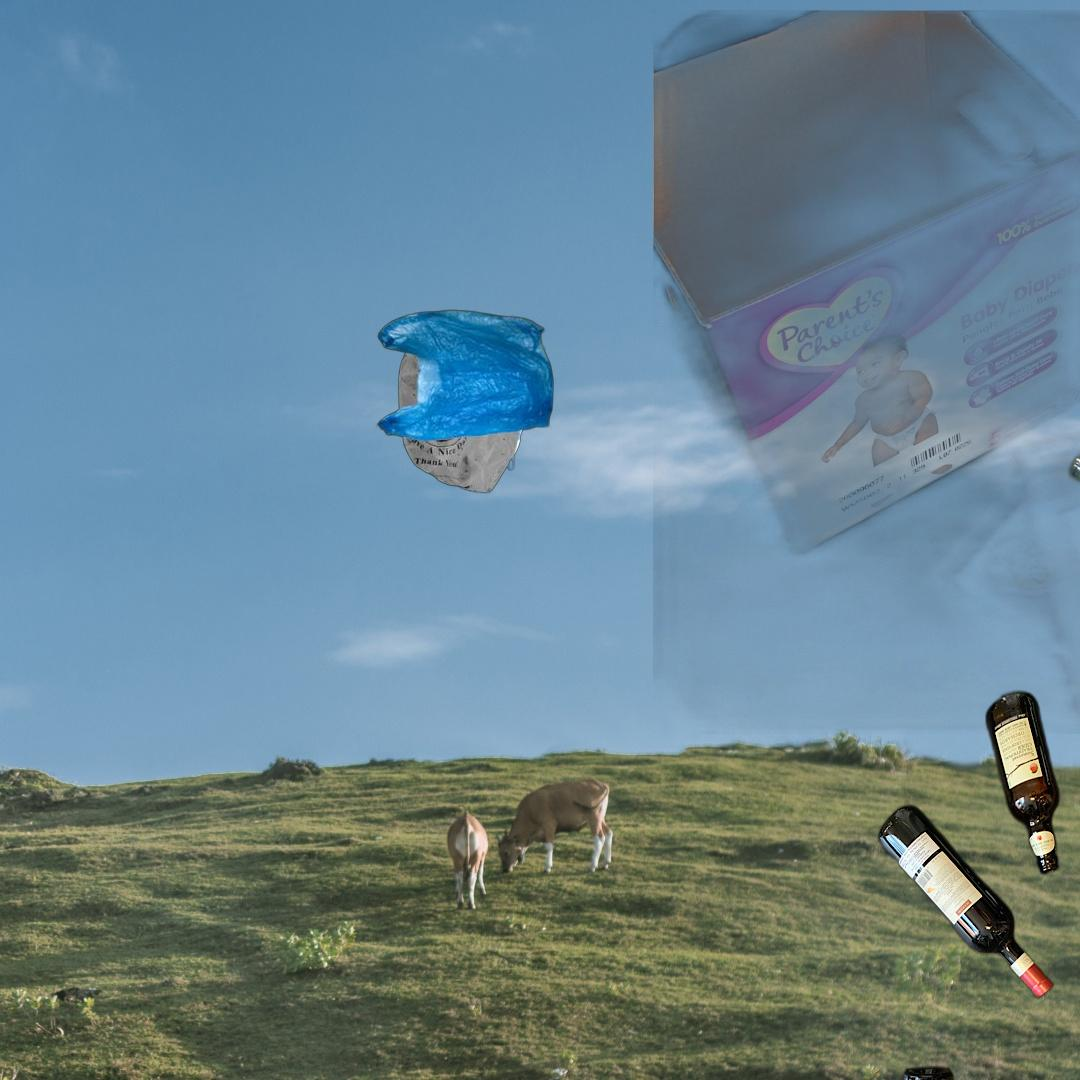glass: (756, 684, 1064, 1080)
plastic-bag: (372, 307, 557, 496)
plastic-bottles: (1065, 448, 1080, 649)
trashbox-cardboard: (653, 10, 1080, 734)
